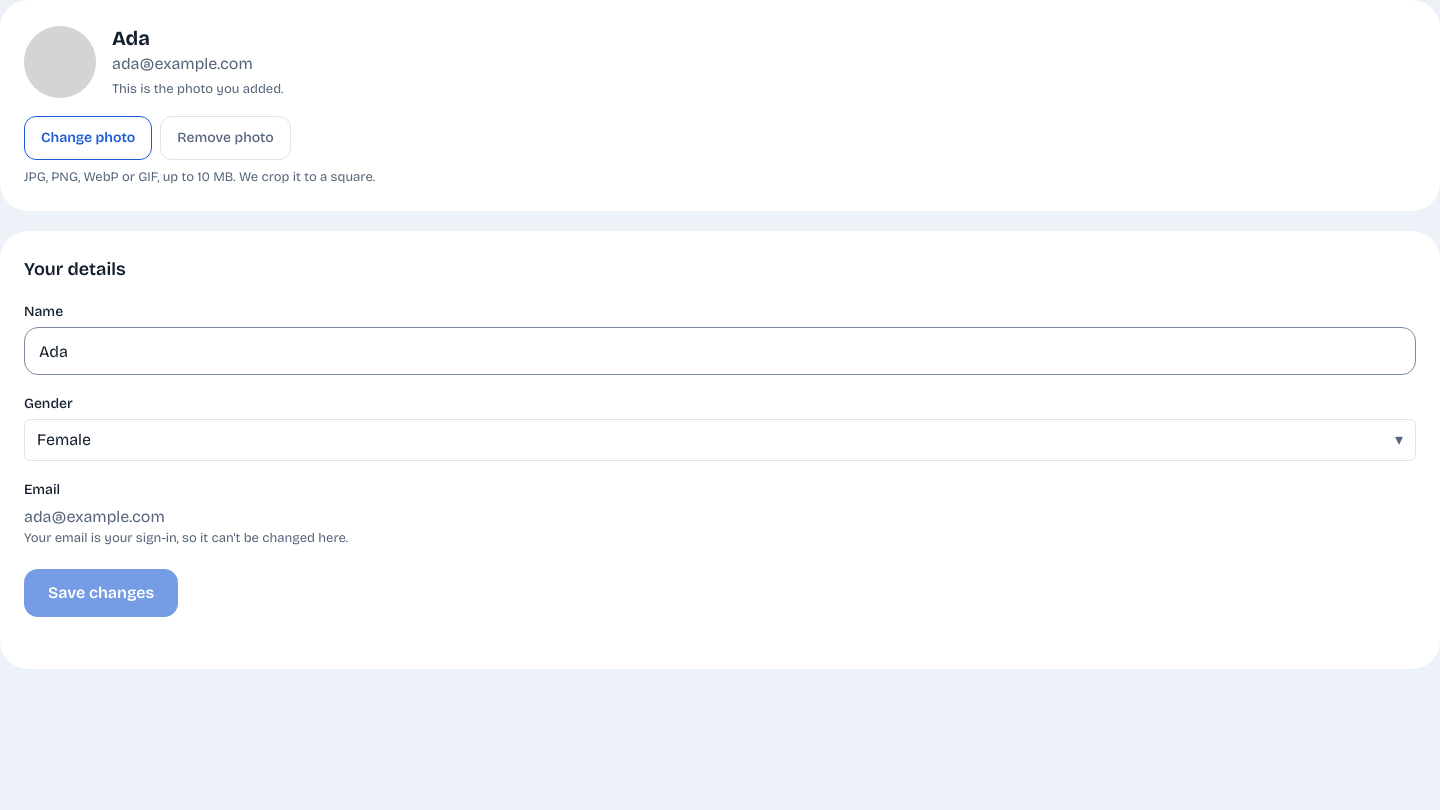
Profile photo › removes a photo the user added
Expected: the file field labelled "Change photo" is shown, [24, 116, 152, 160]
Click the button "Remove photo" at (226, 138), box [160, 116, 291, 160]
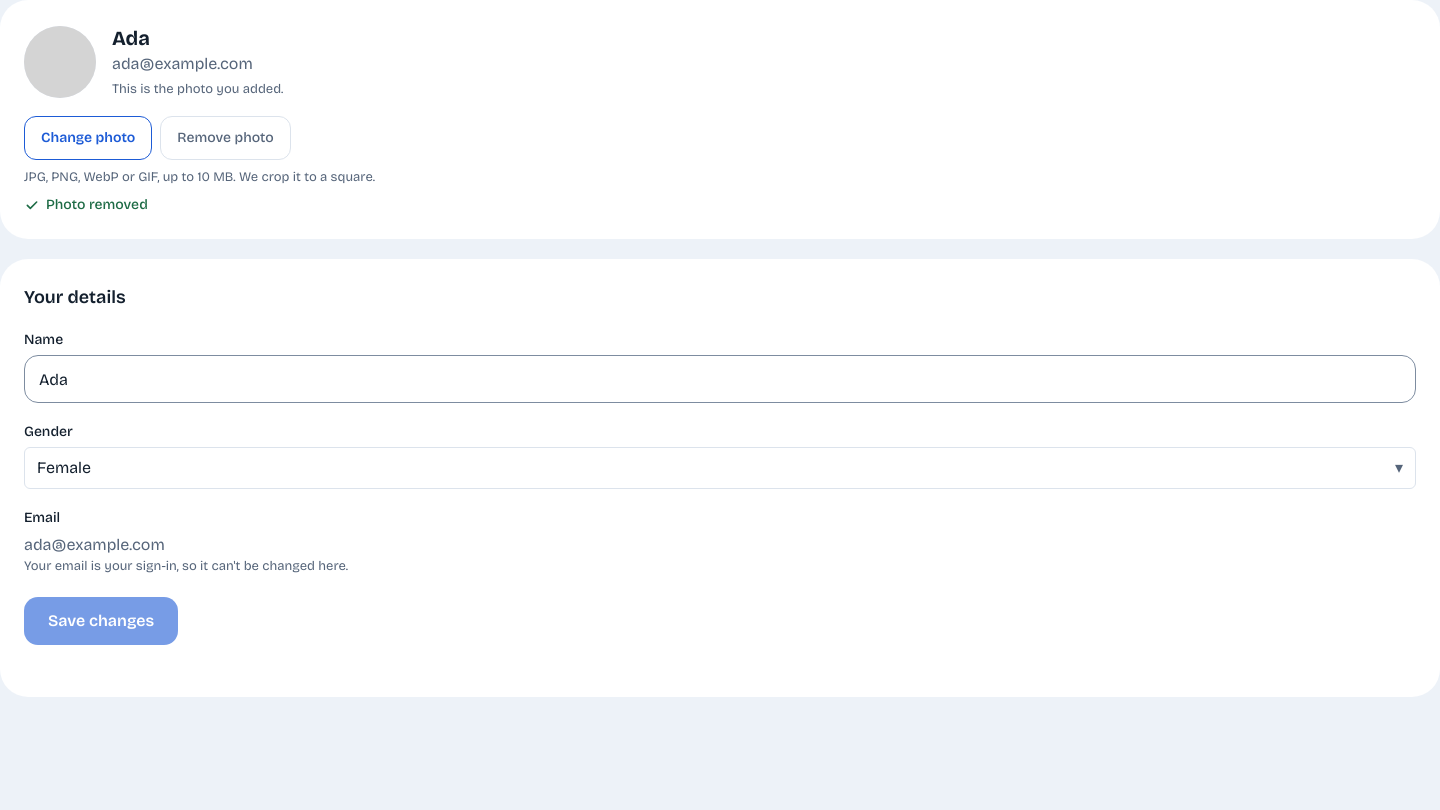
Now the text "Photo removed" is shown, box [24, 195, 148, 215]
